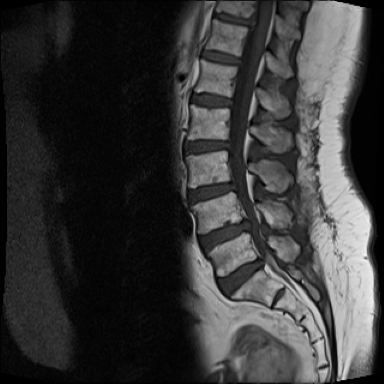Lumbar Disc Bulge (LDB): (211, 250, 274, 303), (191, 213, 261, 259), (184, 175, 240, 210)
Normal IVD: (178, 131, 235, 159), (194, 44, 245, 69), (187, 87, 236, 112)
Spinal Stenosis (SS): (240, 9, 264, 34), (251, 249, 271, 277), (225, 171, 242, 200), (240, 212, 254, 235)
Thoracic Disc Bulge (TDB): (202, 11, 264, 30)
